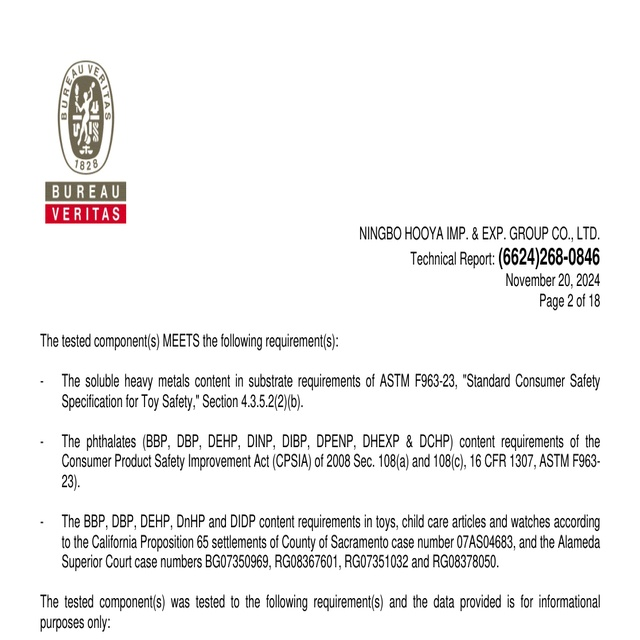bureau_veritas: (42, 57, 132, 230)
